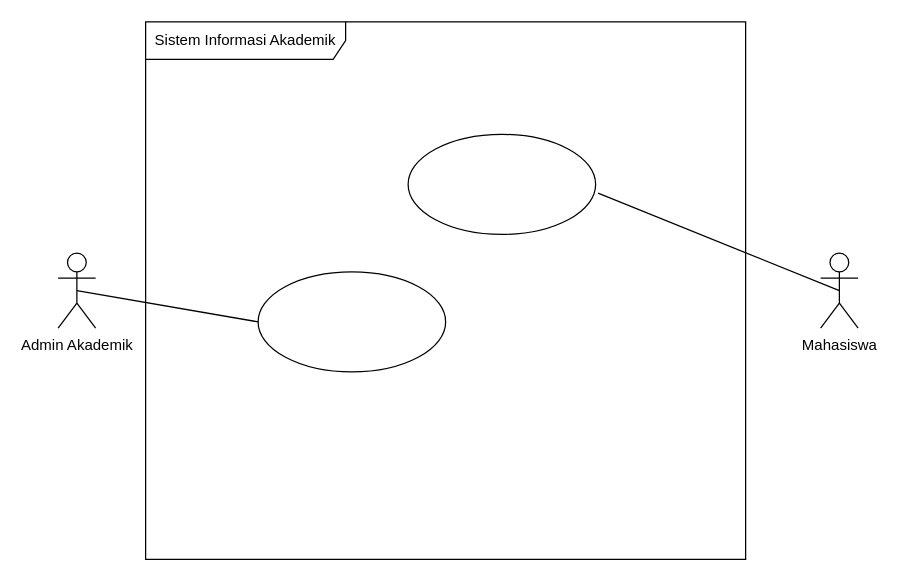
This 899x581 diagram has some shape labels left out. The box of each missing label's shape, as (x1, y1, x2, y2) in pixels:
Fungsi Lihat Jadwal: (407, 133, 596, 234)
Kelola Jadfwal Kuliah: (257, 271, 446, 372)
